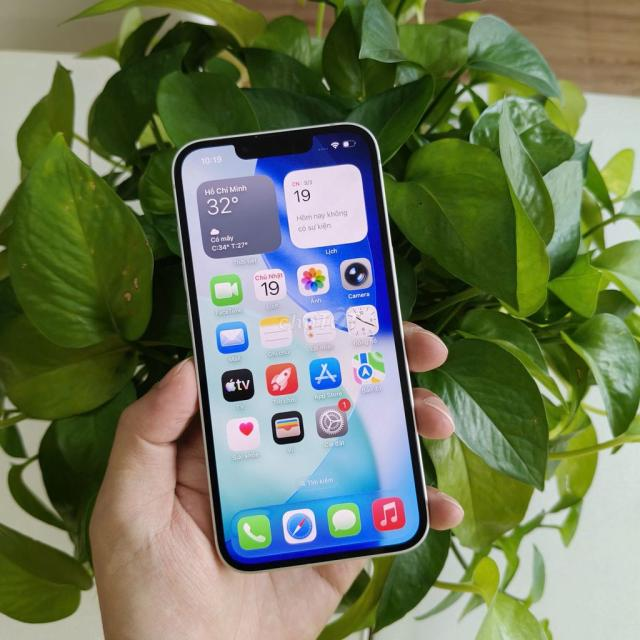gen_16: (172, 124, 428, 571)
